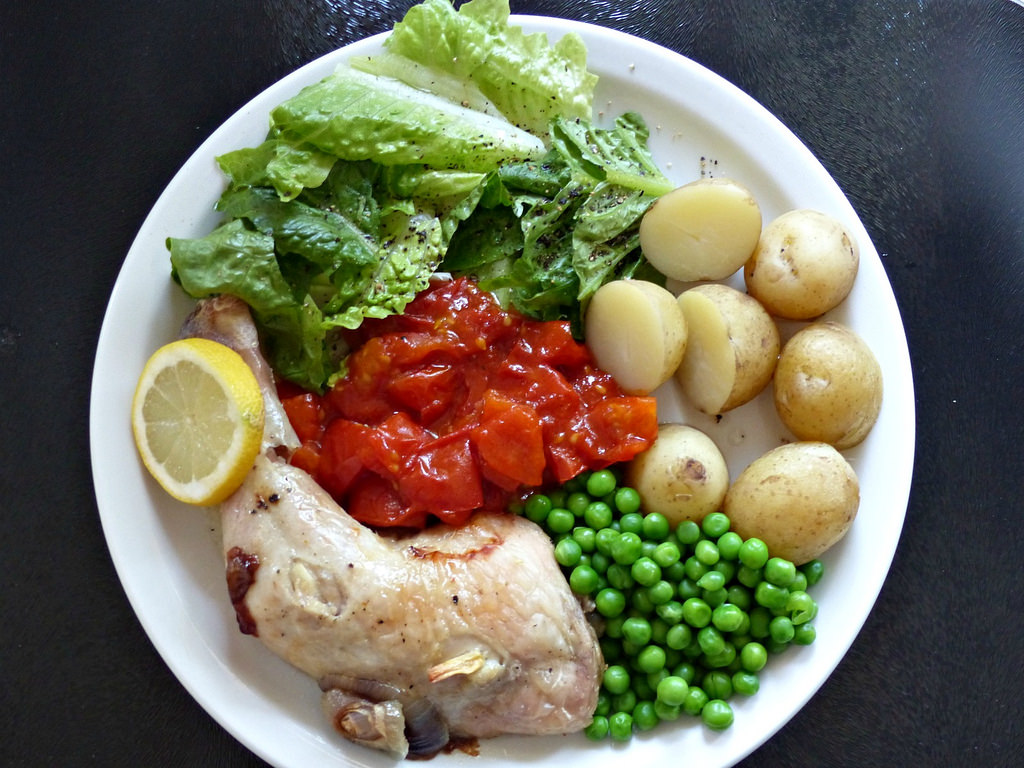boiled peas: (596, 522, 775, 702)
boiled potatoes: (645, 173, 863, 514)
chopped lettuce: (250, 71, 624, 261)
